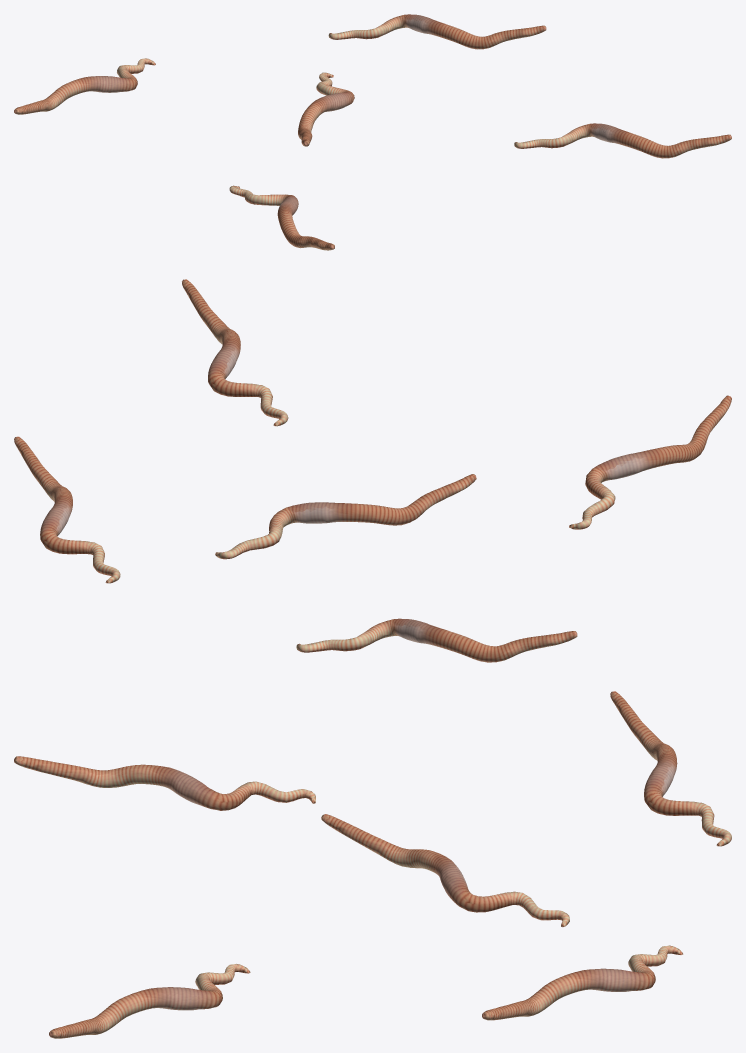
File: worm.gltf
The picture shows the model from 3 angles, top to bottom: view 1: azimuth 30°, elevation 25°; view 2: azimuth 150°, elevation 25°; view 3: azimuth 270°, elevation 25°; orthographic projection. The views are drawn at different scales.
Parts seen in each view (by area): view 1: Mesh_0.001; view 2: Mesh_0.001; view 3: Mesh_0.001.
Part boxes in pixels (box(x1,y1,x2,y2)): Mesh_0.001: box(14, 14, 731, 250); Mesh_0.001: box(14, 279, 731, 662); Mesh_0.001: box(14, 691, 731, 1038).
Size of the model in its own units: 0.3211 by 0.0166 by 0.2846.
1 material, 1 textured.
